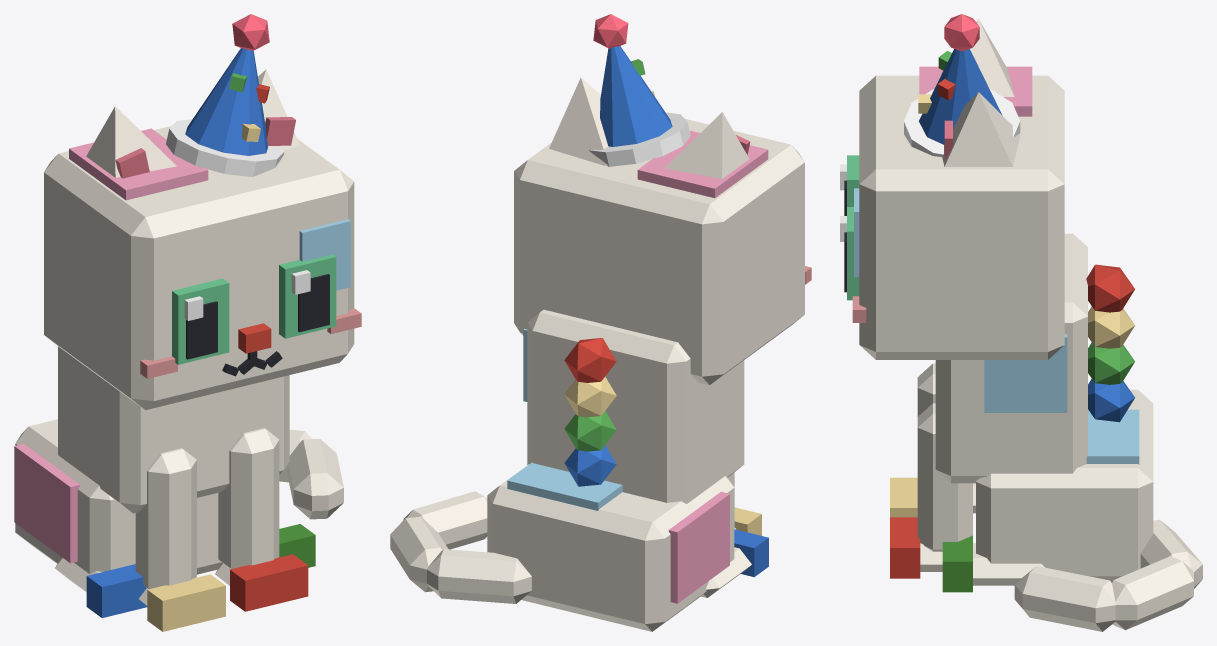
Rendered from CatCafe_Cat_Clown_Sit.glb.
3 views of the same model, side by side, from view 1: azimuth 30°, elevation 25°; view 2: azimuth 150°, elevation 25°; view 3: azimuth 270°, elevation 25° (orthographic). The views are drawn at different scales.
Parts seen in each view (by area): view 1: CatCafe_Cat_Clown_Sit_Head, CatCafe_Cat_Clown_Sit_Body, CatCafe_Cat_Clown_Sit_LegF1, CatCafe_Cat_Clown_Sit_LegF2, CatCafe_Cat_Clown_Sit_Prop, CatCafe_Cat_Clown_Sit_Eye2, CatCafe_Cat_Clown_Sit_Eye1, CatCafe_Cat_Clown_Sit_Tail, CatCafe_Cat_Clown_Sit_EarR, CatCafe_Cat_Clown_Sit_EarL, CatCafe_Cat_Clown_Sit_Pom_Glow; view 2: CatCafe_Cat_Clown_Sit_Body, CatCafe_Cat_Clown_Sit_Head, CatCafe_Cat_Clown_Sit_Tail, CatCafe_Cat_Clown_Sit_Prop, CatCafe_Cat_Clown_Sit_Prop2, CatCafe_Cat_Clown_Sit_EarR, CatCafe_Cat_Clown_Sit_EarL, CatCafe_Cat_Clown_Sit_Pom_Glow, CatCafe_Cat_Clown_Sit_LegF2; view 3: CatCafe_Cat_Clown_Sit_Head, CatCafe_Cat_Clown_Sit_Body, CatCafe_Cat_Clown_Sit_Tail, CatCafe_Cat_Clown_Sit_LegF1, CatCafe_Cat_Clown_Sit_Prop2, CatCafe_Cat_Clown_Sit_Prop, CatCafe_Cat_Clown_Sit_EarL, CatCafe_Cat_Clown_Sit_LegF2, CatCafe_Cat_Clown_Sit_EarR, CatCafe_Cat_Clown_Sit_Eye1, CatCafe_Cat_Clown_Sit_Pom_Glow, CatCafe_Cat_Clown_Sit_Eye2.
Boxes of the visible parts, x1,y1,x2,y2 form: CatCafe_Cat_Clown_Sit_Head: (44,126,361,410); CatCafe_Cat_Clown_Sit_Body: (14,346,315,617); CatCafe_Cat_Clown_Sit_LegF1: (215,428,308,611); CatCafe_Cat_Clown_Sit_LegF2: (135,448,225,631); CatCafe_Cat_Clown_Sit_Prop: (166,48,284,177); CatCafe_Cat_Clown_Sit_Eye2: (172,278,229,364); CatCafe_Cat_Clown_Sit_Eye1: (279,254,336,338); CatCafe_Cat_Clown_Sit_Tail: (279,429,343,519); CatCafe_Cat_Clown_Sit_EarR: (86,106,176,178); CatCafe_Cat_Clown_Sit_EarL: (258,69,300,150); CatCafe_Cat_Clown_Sit_Pom_Glow: (232,14,269,50); CatCafe_Cat_Clown_Sit_Body: (487,309,768,631); CatCafe_Cat_Clown_Sit_Head: (514,119,811,385); CatCafe_Cat_Clown_Sit_Tail: (390,491,531,603); CatCafe_Cat_Clown_Sit_Prop: (588,46,690,166); CatCafe_Cat_Clown_Sit_Prop2: (564,338,616,486); CatCafe_Cat_Clown_Sit_EarR: (664,112,750,178); CatCafe_Cat_Clown_Sit_EarL: (549,77,608,165); CatCafe_Cat_Clown_Sit_Pom_Glow: (593,14,628,48); CatCafe_Cat_Clown_Sit_LegF2: (728,472,761,535); CatCafe_Cat_Clown_Sit_Head: (852,66,1064,359); CatCafe_Cat_Clown_Sit_Body: (935,233,1153,592); CatCafe_Cat_Clown_Sit_Tail: (1014,519,1202,631); CatCafe_Cat_Clown_Sit_LegF1: (890,403,972,578); CatCafe_Cat_Clown_Sit_Prop2: (1086,264,1134,422); CatCafe_Cat_Clown_Sit_Prop: (904,49,1020,156); CatCafe_Cat_Clown_Sit_EarL: (942,92,1020,166); CatCafe_Cat_Clown_Sit_LegF2: (890,363,935,517); CatCafe_Cat_Clown_Sit_EarR: (970,19,1014,96); CatCafe_Cat_Clown_Sit_Eye1: (840,207,859,300); CatCafe_Cat_Clown_Sit_Pom_Glow: (944,14,979,50); CatCafe_Cat_Clown_Sit_Eye2: (840,155,859,215).
Bounding box in the file's own units: 1.24 × 2.1 × 1.24.
1 material, 1 textured.
